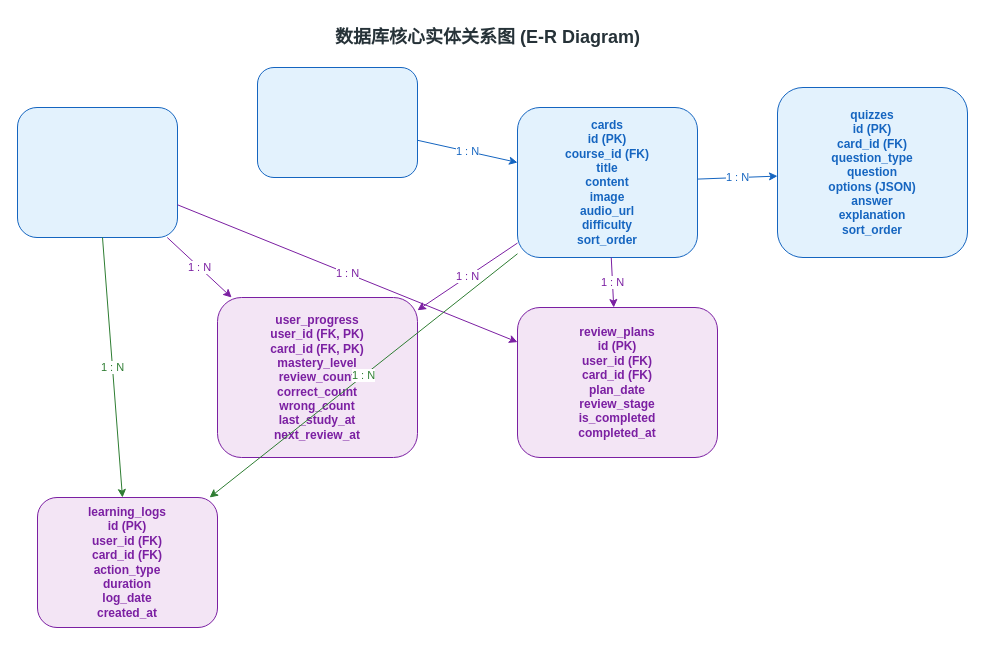
Image size: 985x645. Some labels were removed from this diagram. The box of each missing label's shape, as (x1, y1, x2, y2) in pixels:
courses id (PK) title summary status sort_order: (256, 66, 418, 178)
users id (PK) openid nickname avatar gender created_at: (16, 106, 178, 238)
